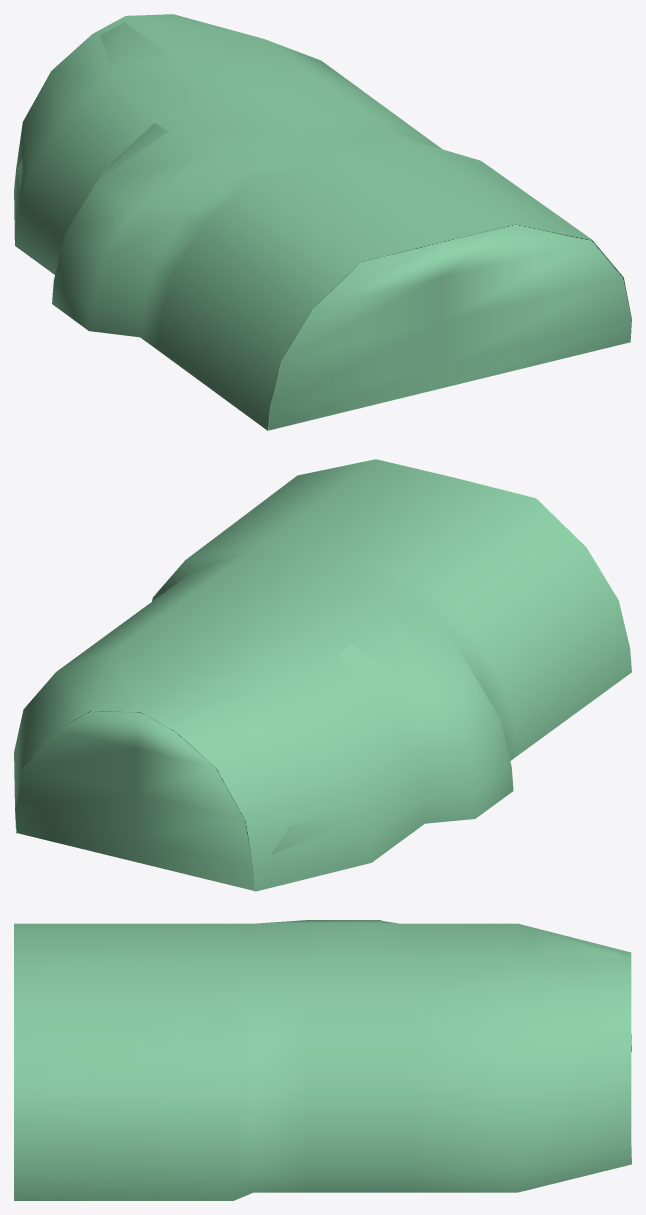
The model's file is CandyShop_Roof.fbx.
The picture shows the model from 3 angles, top to bottom: view 1: azimuth 30°, elevation 25°; view 2: azimuth 150°, elevation 25°; view 3: azimuth 270°, elevation 25°; orthographic projection. The views are drawn at different scales.
Visible parts, largest first — view 1: pCube23; view 2: pCube23; view 3: pCube23.
Boxes of the visible parts, x1,y1,x2,y2 form: pCube23: (14, 14, 631, 430); pCube23: (14, 459, 631, 891); pCube23: (14, 920, 631, 1200).
Bounding box in the file's own units: 150 × 53.5 × 204.
